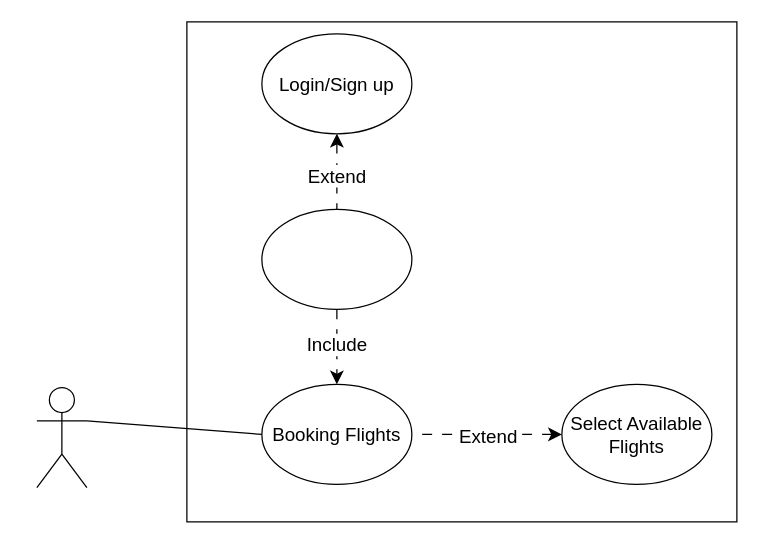
Image size: 759x544. Some labels were removed from this diagram. Each missing label, with the centre of its shape:
"Customer" goes at (61,437).
"Search Flights" goes at (336,258).
